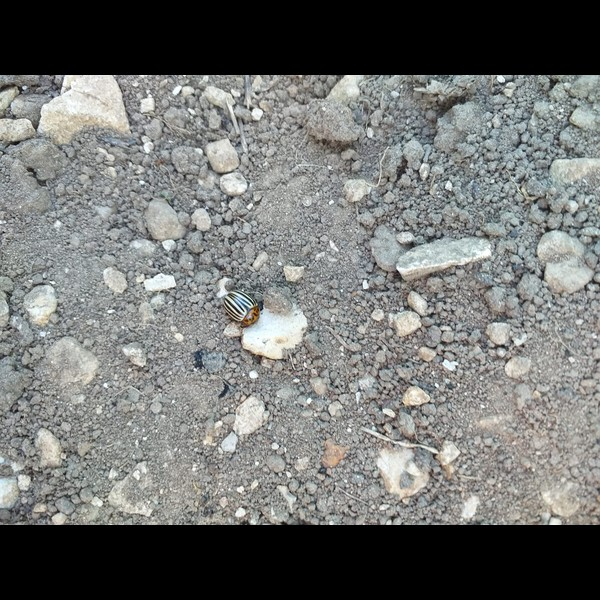hrosc: (223, 289, 261, 330)
